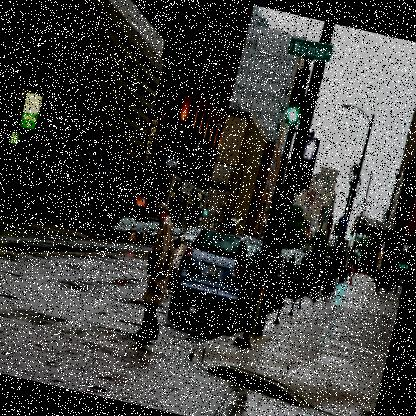Car: (161, 225, 265, 340), (230, 234, 268, 294), (266, 251, 295, 309), (276, 248, 310, 292), (294, 250, 326, 293), (106, 212, 140, 246), (129, 218, 150, 245), (180, 223, 202, 248), (168, 224, 186, 248), (143, 220, 160, 242)
